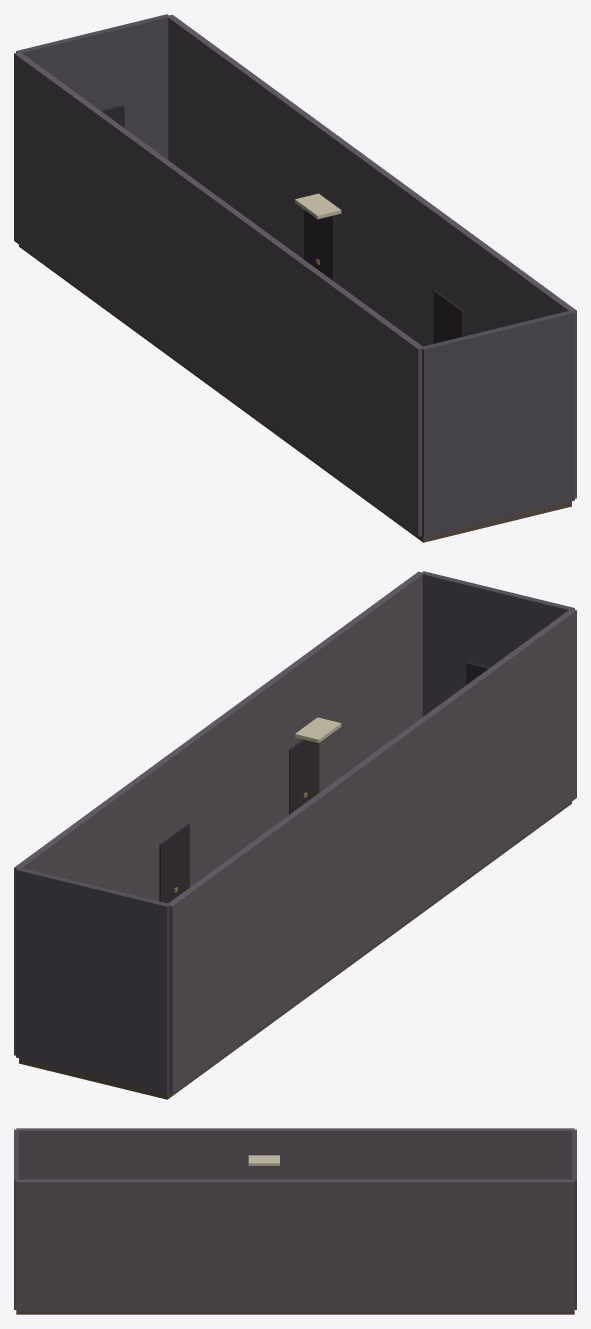
File: pasilloDesfase.obj
3 views of the same model, one above another, from view 1: azimuth 30°, elevation 25°; view 2: azimuth 150°, elevation 25°; view 3: azimuth 270°, elevation 25° (orthographic). The views are drawn at different scales.
Visible parts, largest first — view 1: pasilloDesfase_obj_1, pasilloDesfase_obj_6, pasilloDesfase_obj_12, pasilloDesfase_obj_11, pasilloDesfase_decor, pasilloDesfase_obj_0; view 2: pasilloDesfase_obj_1, pasilloDesfase_obj_6, pasilloDesfase_obj_11, pasilloDesfase_obj_12, pasilloDesfase_decor, pasilloDesfase_obj_0; view 3: pasilloDesfase_obj_6, pasilloDesfase_obj_1, pasilloDesfase_obj_0, pasilloDesfase_obj_11, pasilloDesfase_obj_12, pasilloDesfase_decor.
Part boxes in pixels (box(x1,y1,x2,y2)): pasilloDesfase_obj_1: box(14, 52, 423, 536); pasilloDesfase_obj_6: box(166, 14, 576, 498); pasilloDesfase_obj_12: box(420, 311, 574, 537); pasilloDesfase_obj_11: box(16, 14, 168, 159); pasilloDesfase_decor: box(295, 193, 463, 343); pasilloDesfase_obj_0: box(19, 245, 571, 542); pasilloDesfase_obj_1: box(167, 609, 576, 1093); pasilloDesfase_obj_6: box(14, 571, 424, 1055); pasilloDesfase_obj_11: box(16, 868, 170, 1094); pasilloDesfase_obj_12: box(422, 571, 574, 716); pasilloDesfase_decor: box(159, 717, 341, 903); pasilloDesfase_obj_0: box(19, 802, 571, 1099); pasilloDesfase_obj_6: box(16, 1179, 574, 1311); pasilloDesfase_obj_1: box(16, 1128, 574, 1179); pasilloDesfase_obj_0: box(16, 1311, 574, 1314); pasilloDesfase_obj_11: box(572, 1129, 576, 1309); pasilloDesfase_obj_12: box(14, 1129, 18, 1309); pasilloDesfase_decor: box(248, 1155, 279, 1165).
Size of the model in its own units: 5.66 by 6.64 by 25.22.
